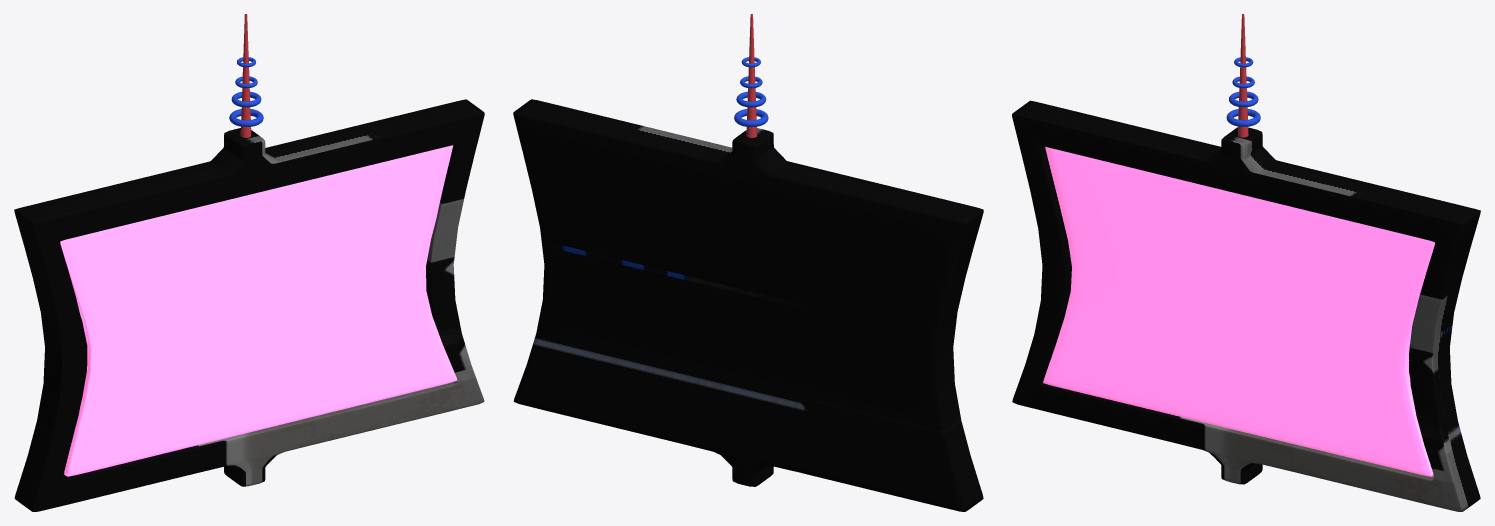
File: Glowing_Billboard.fbx
The picture shows the model from 3 angles, left to right: view 1: azimuth 30°, elevation 25°; view 2: azimuth 150°, elevation 25°; view 3: azimuth 330°, elevation 25°; orthographic projection.
Visible parts, largest first — view 1: Plane, Floating_Low_Billboard, Electric_Ring, Antenna; view 2: Floating_Low_Billboard, Electric_Ring, Antenna; view 3: Plane, Floating_Low_Billboard, Electric_Ring, Antenna.
Part boxes in pixels (x1,y1,x2,y2): Plane: (60,145,457,476); Floating_Low_Billboard: (14,99,484,511); Electric_Ring: (229,57,263,126); Antenna: (240,14,251,137); Floating_Low_Billboard: (513,99,983,511); Electric_Ring: (734,57,768,127); Antenna: (746,14,757,137); Plane: (1043,146,1434,476); Floating_Low_Billboard: (1012,100,1480,511); Electric_Ring: (1226,57,1260,126); Antenna: (1238,14,1248,137).
Bounding box in the file's own units: 706 × 692 × 56.39.
